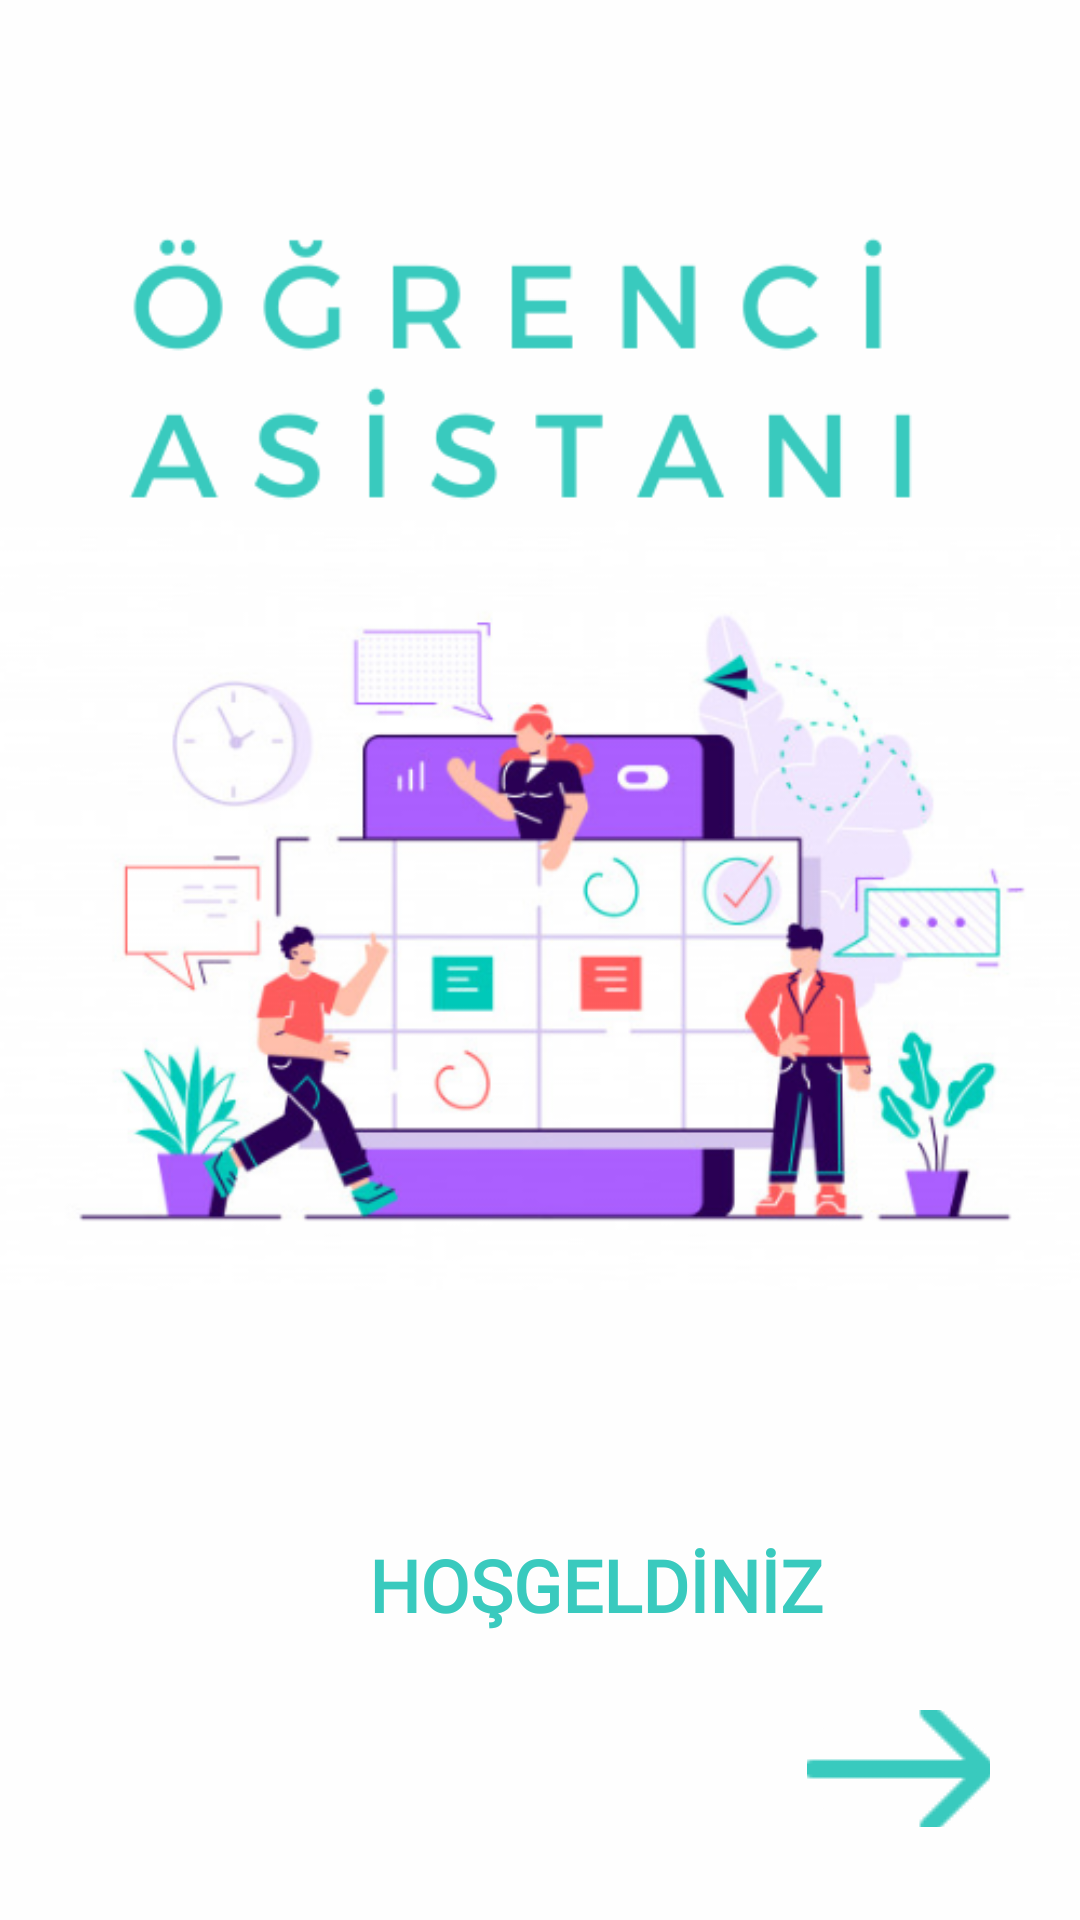

Icons on this 1080px×1920px Android screen, each with the point to tap as [x,y]:
arrow: [898,1768]
